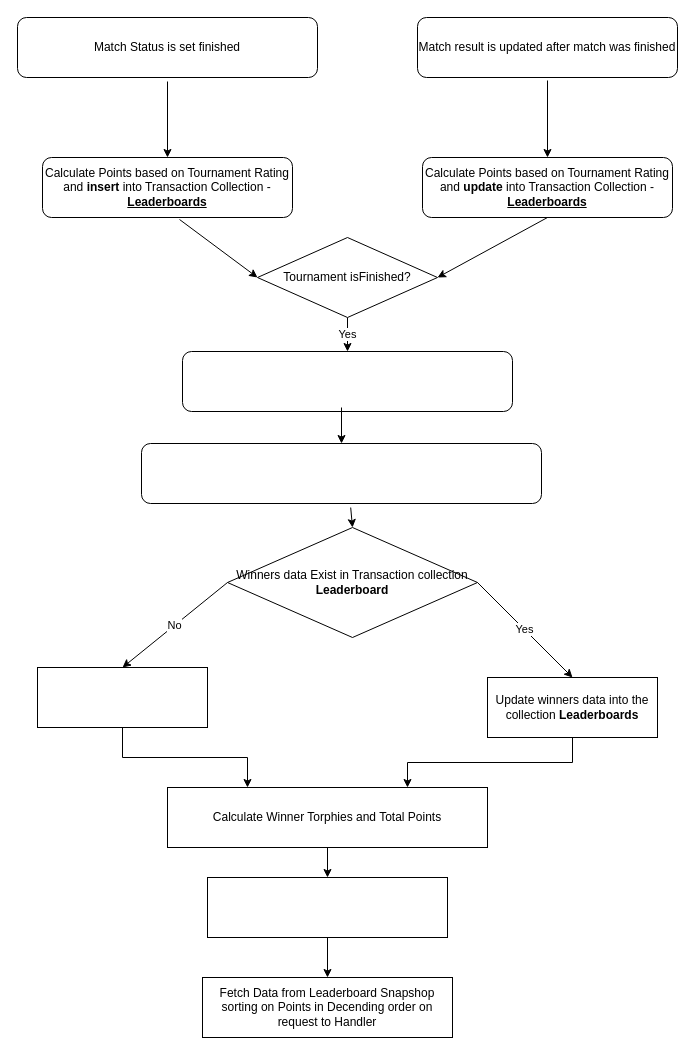
This 695x1055 diagram has some shape labels left out. The shapes that lost their labels are listed below. From the top down, each one's centre as x and y in pixels, then its label:
At [347,381]: "Based on the Bracket, calculate top 3 winners".
At [341,473]: "Calculate points for top 3 winners based on tournament Ranking".
At [122,697]: "Insert winners data into the collection Leaderboards".
At [327,907]: "Upsert Data into Leaderboard Sanpshot Collection".
